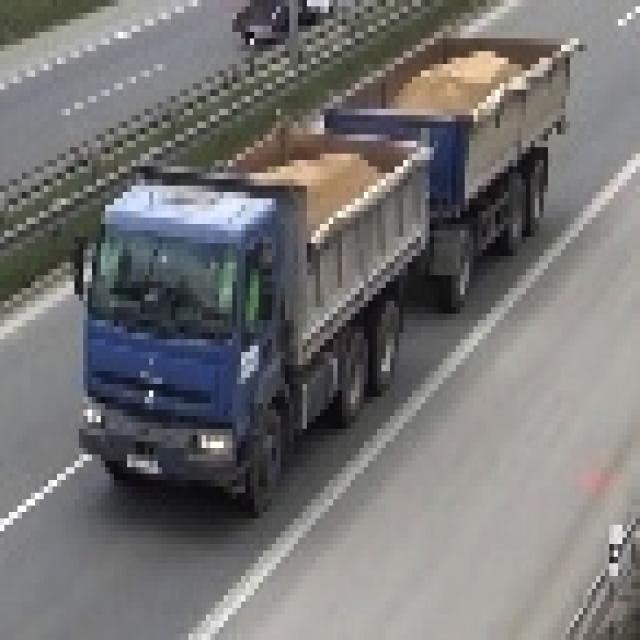truck: (67, 27, 571, 507)
